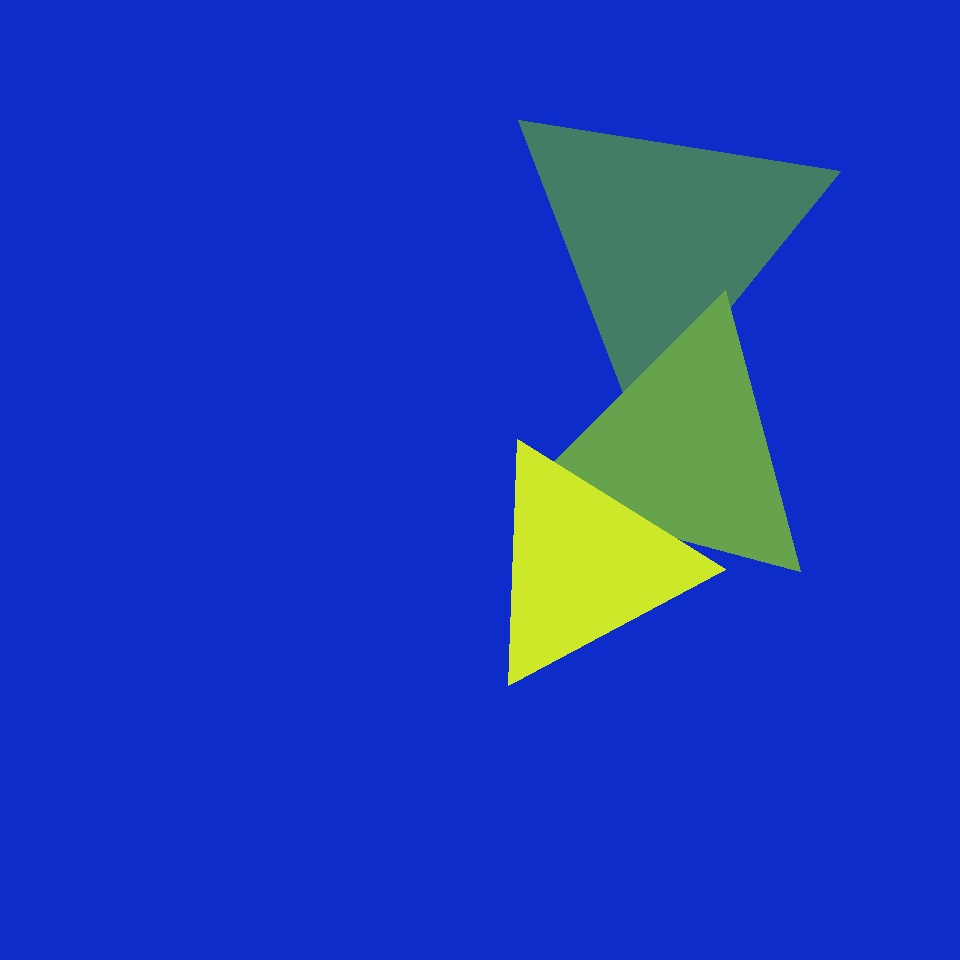circle: (504, 87, 826, 391), (542, 312, 822, 594), (475, 442, 692, 688)
